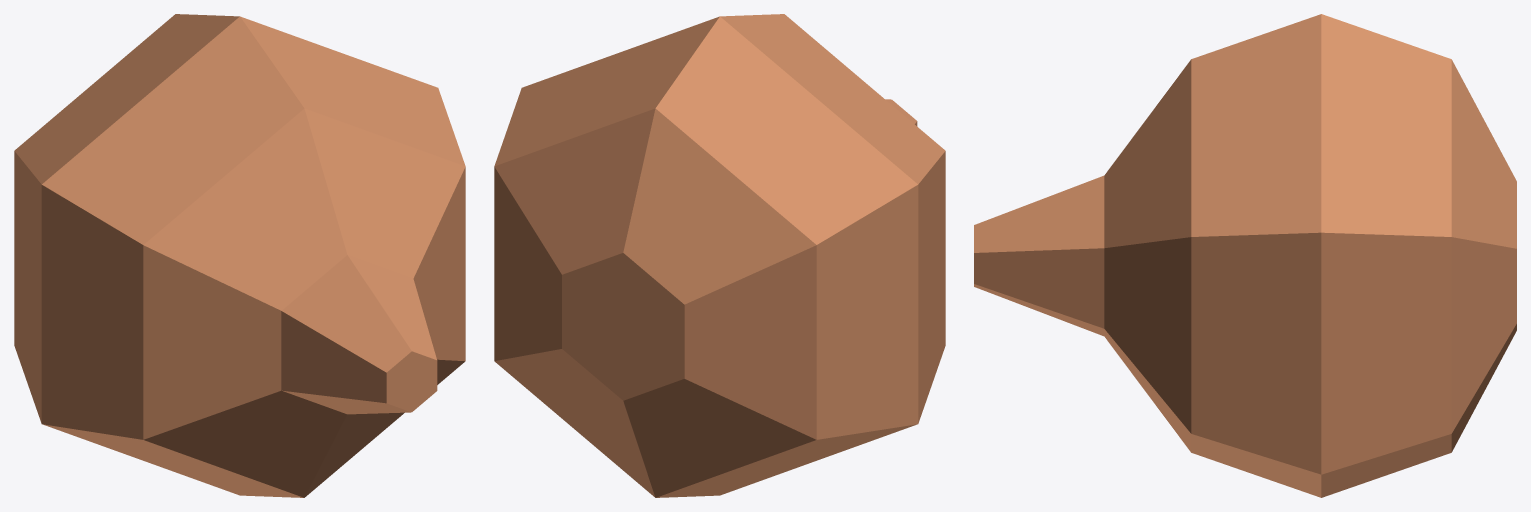
Rendered from brownOnion.obj.
3 views of the same model, side by side, from view 1: azimuth 30°, elevation 25°; view 2: azimuth 150°, elevation 25°; view 3: azimuth 270°, elevation 25° (orthographic).
Parts seen in each view (by area): view 1: onion; view 2: onion; view 3: onion.
Boxes of the visible parts, bbox=[...] form: onion: bbox=[14, 14, 465, 497]; onion: bbox=[494, 14, 945, 497]; onion: bbox=[974, 14, 1516, 497].
Size of the model in its own units: 0.213 by 0.246 by 0.25.
